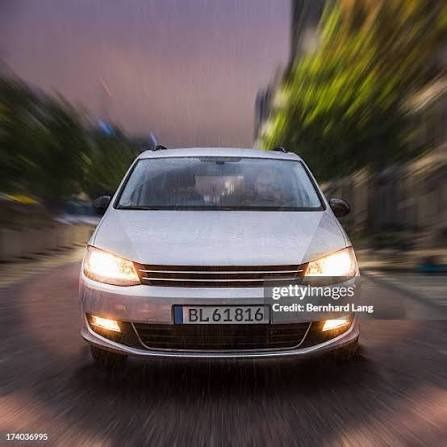car: (74, 140, 362, 363)
